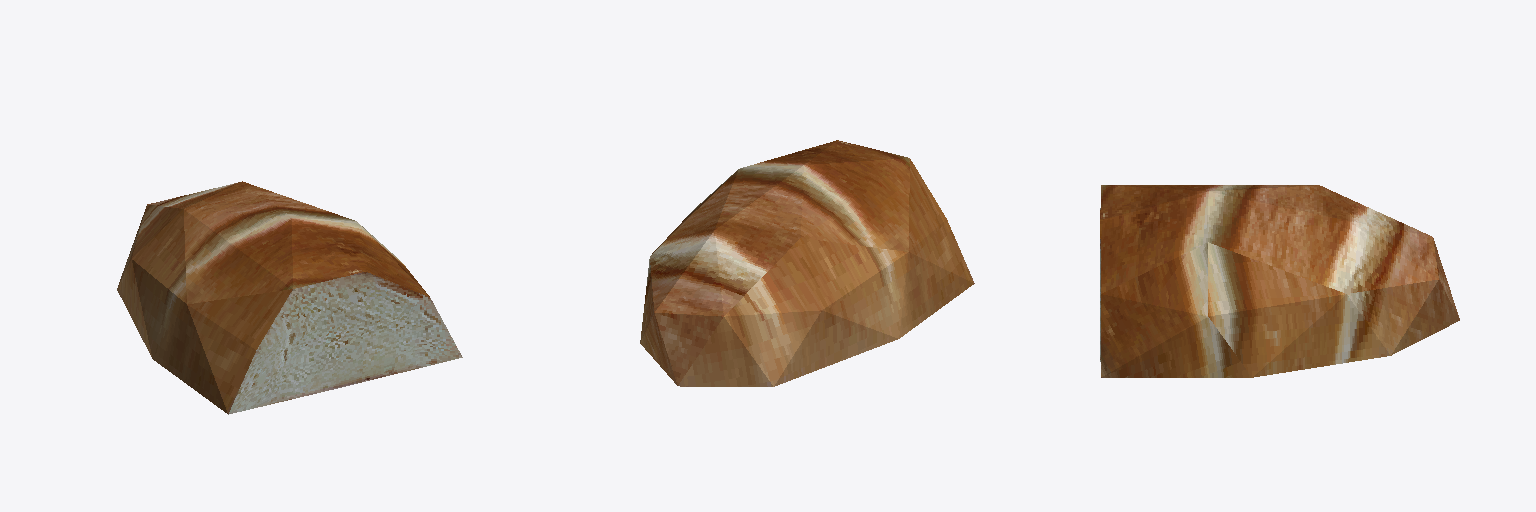
The picture shows the model from 3 angles: view 1: azimuth 30°, elevation 25°; view 2: azimuth 150°, elevation 25°; view 3: azimuth 270°, elevation 25°; orthographic projection.
Parts seen in each view (by area): view 1: loaf_Icosphere; view 2: loaf_Icosphere; view 3: loaf_Icosphere.
Boxes of the visible parts, x1=… form: loaf_Icosphere: x1=117, y1=181, x2=462, y2=414; loaf_Icosphere: x1=640, y1=140, x2=974, y2=386; loaf_Icosphere: x1=1100, y1=185, x2=1459, y2=377.
Bounding box in the file's own units: 1.9 × 1 × 2.53.
1 materials, 1 textured.